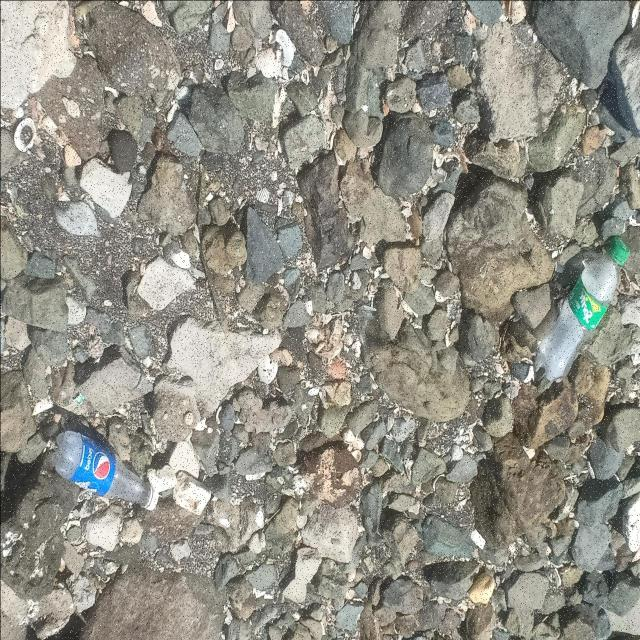plastic_waste: (536, 235, 630, 384), (56, 432, 161, 514)
